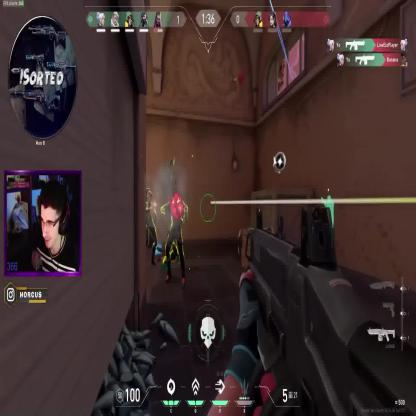enemy: (142, 188, 158, 266)
enemy_head: (146, 188, 153, 203)
